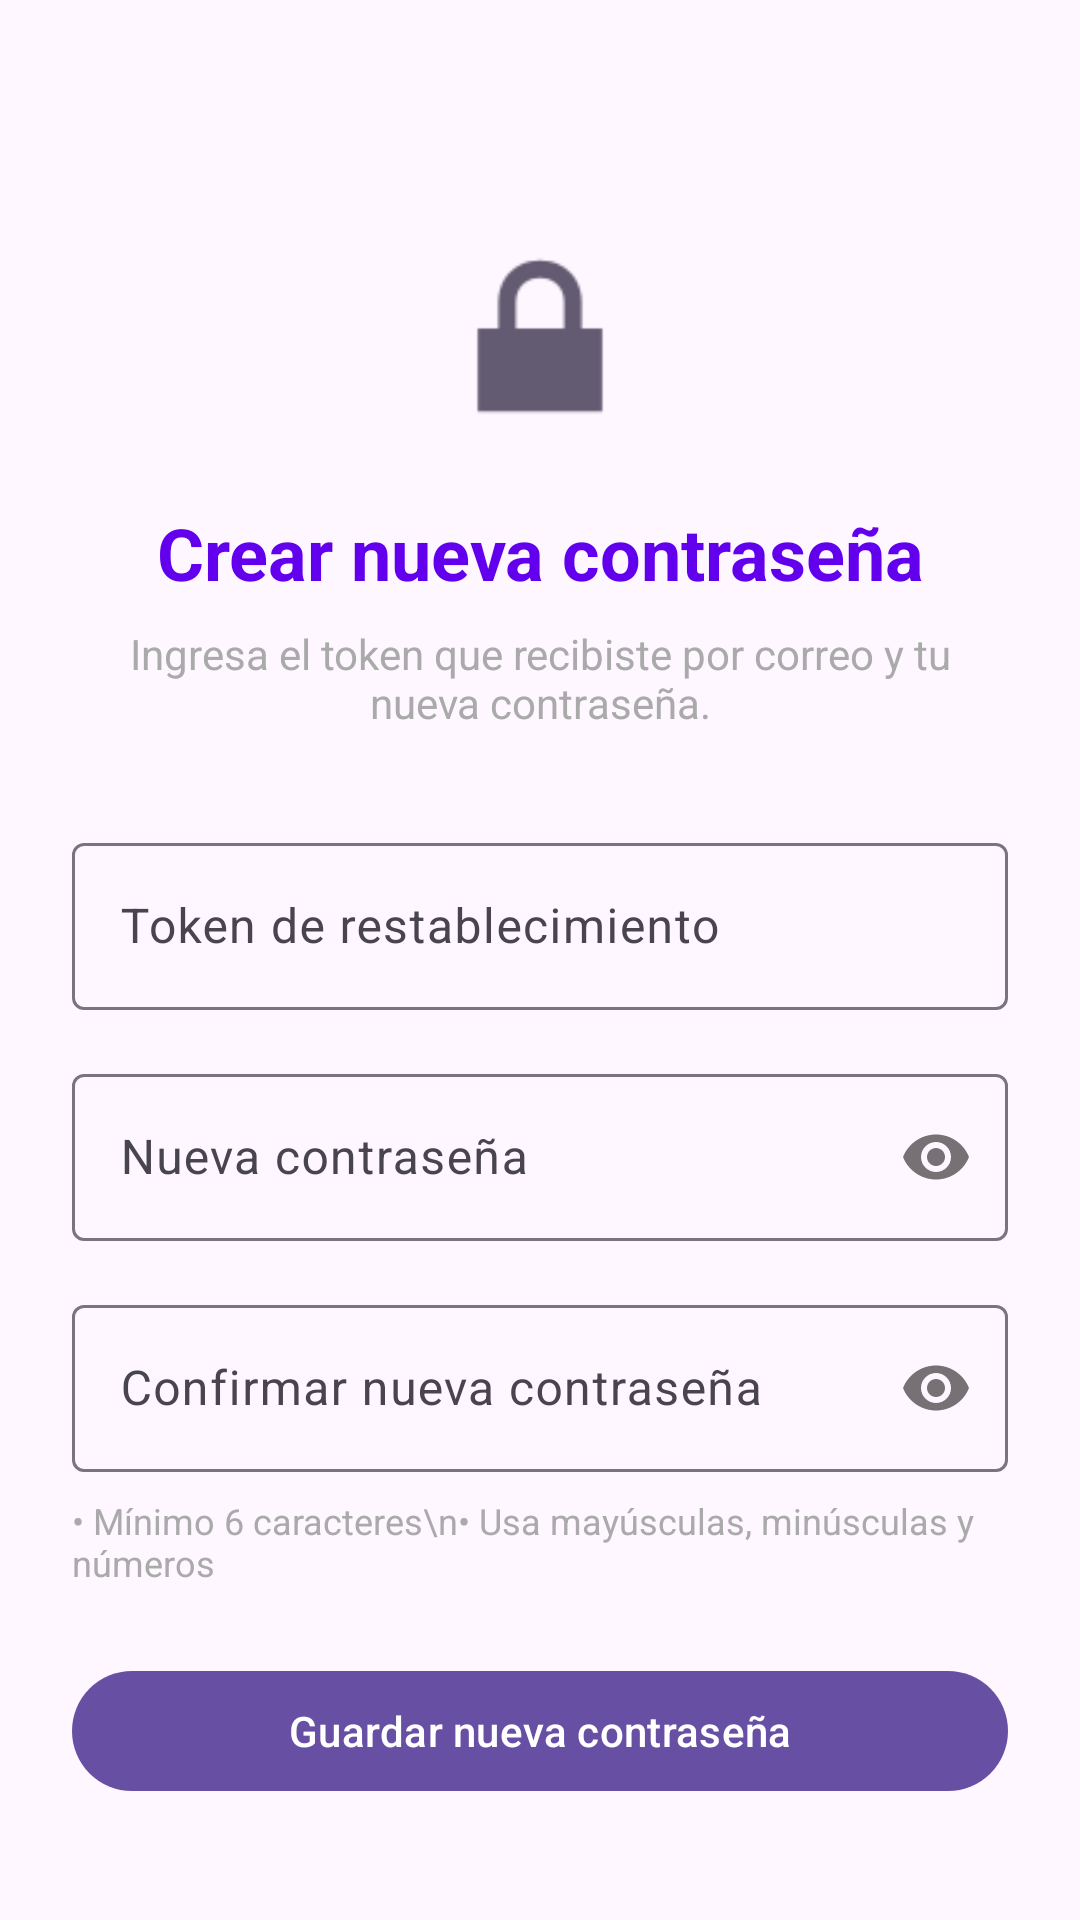

Locate icon controls on the screen. Image size 1080x1920, boxes as (x1, y1, x2, y2).
lock: (477, 259, 603, 413)
